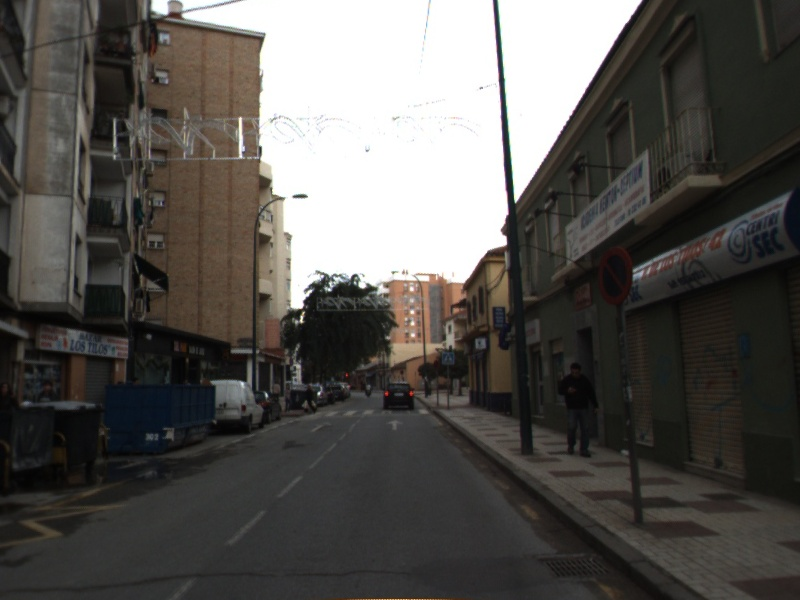STRAIGHT: (308, 420, 334, 434), (384, 418, 405, 432)
